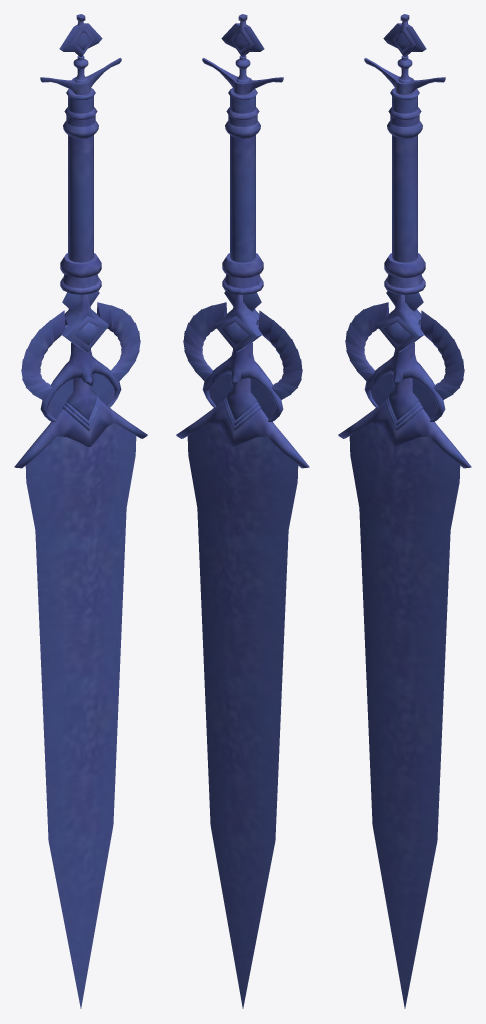
Rendered from weapon-wp_a_0233.glb.
The picture shows the model from 3 angles, left to right: view 1: azimuth 30°, elevation 25°; view 2: azimuth 150°, elevation 25°; view 3: azimuth 330°, elevation 25°; orthographic projection.
Parts seen in each view (by area): view 1: wp_a_0233_mesh; view 2: wp_a_0233_mesh; view 3: wp_a_0233_mesh.
Part boxes in pixels (<box>): wp_a_0233_mesh: <box>14,14,147,1008</box>; wp_a_0233_mesh: <box>176,14,309,1008</box>; wp_a_0233_mesh: <box>338,14,471,1008</box>.
Size of the model in its own units: 0.1562 by 1.11 by 0.0467.
1 material, 1 textured.
